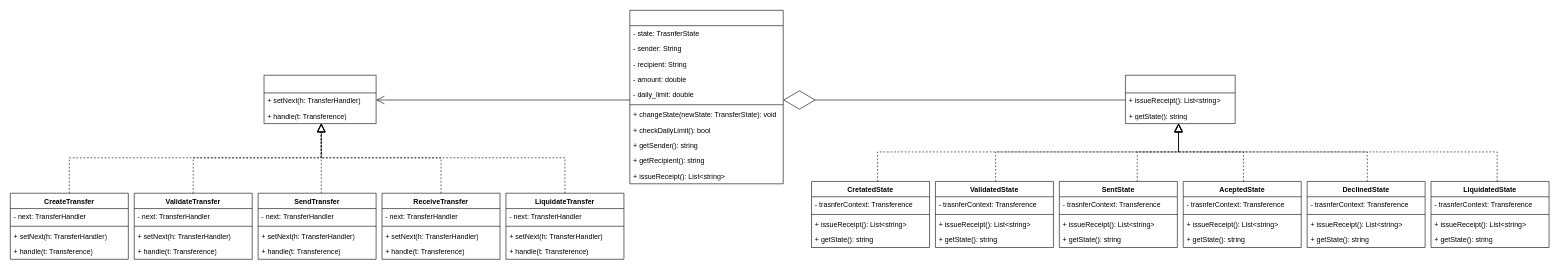
Image size: 1559x271. Some labels were removed from this diagram. The box of each missing label's shape, as (x1, y1, x2, y2) in pixels:
Transference: (629, 10, 783, 184)
«interface» TransferHandler: (263, 75, 376, 124)
«interface» TransferState: (1125, 75, 1235, 124)
